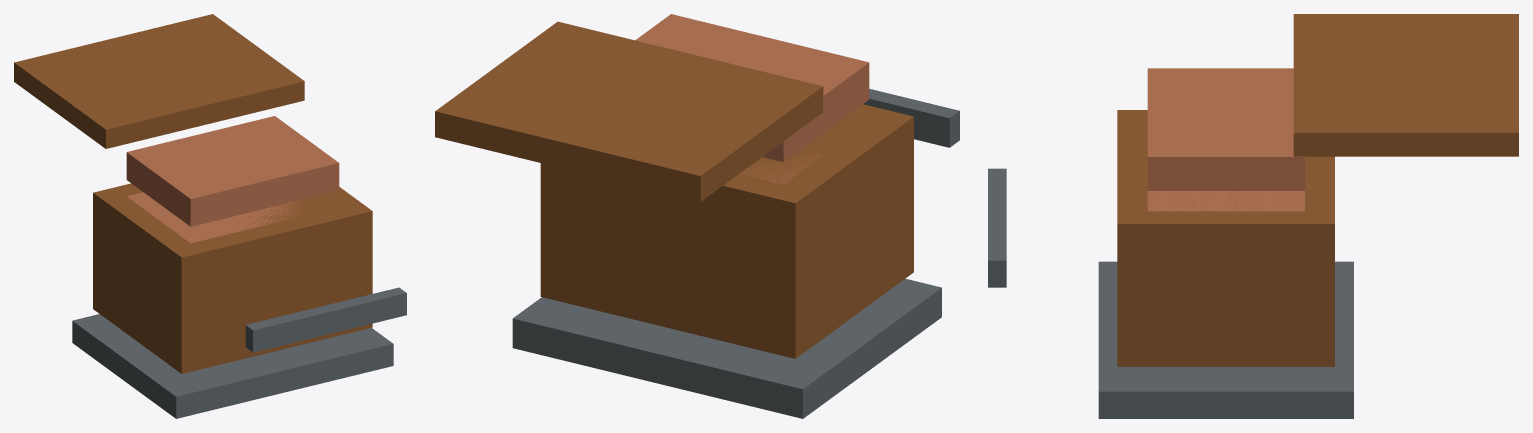
The model's file is stateful_crate.gltf.
The picture shows the model from 3 angles, left to right: view 1: azimuth 30°, elevation 25°; view 2: azimuth 150°, elevation 25°; view 3: azimuth 270°, elevation 25°; orthographic projection. The views are drawn at different scales.
Visible parts, largest first — view 1: Body, Lid, CargoHigh, MountBrackets, CarryStraps, CargoMid; view 2: Body, Lid, MountBrackets, CargoHigh, CarryStraps, CargoMid; view 3: Body, Lid, CargoHigh, MountBrackets, CargoMid, CarryStraps.
Boxes of the visible parts, x1,y1,x2,y2 form: Body: [93, 183, 372, 373]; Lid: [14, 14, 304, 148]; CargoHigh: [126, 116, 339, 226]; MountBrackets: [72, 314, 393, 418]; CarryStraps: [245, 287, 406, 352]; CargoMid: [127, 192, 306, 243]; Body: [540, 104, 913, 358]; Lid: [435, 21, 823, 201]; MountBrackets: [512, 278, 941, 418]; CargoHigh: [635, 14, 869, 162]; CarryStraps: [863, 89, 959, 147]; CargoMid: [741, 148, 825, 183]; Body: [1117, 110, 1334, 366]; Lid: [1293, 14, 1518, 156]; CargoHigh: [1147, 68, 1304, 190]; MountBrackets: [1098, 261, 1353, 418]; CargoMid: [1147, 191, 1304, 211]; CarryStraps: [988, 168, 1006, 287].
Bounding box in the file's own units: 0.82 × 0.825 × 1.42.
